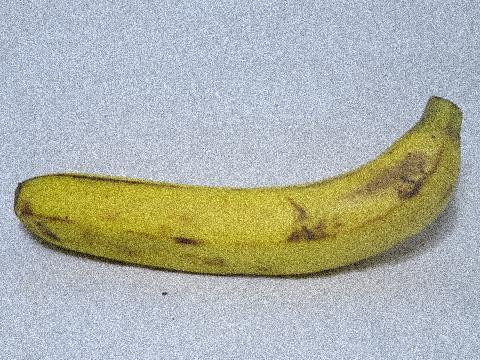ripe: (9, 85, 472, 302)
